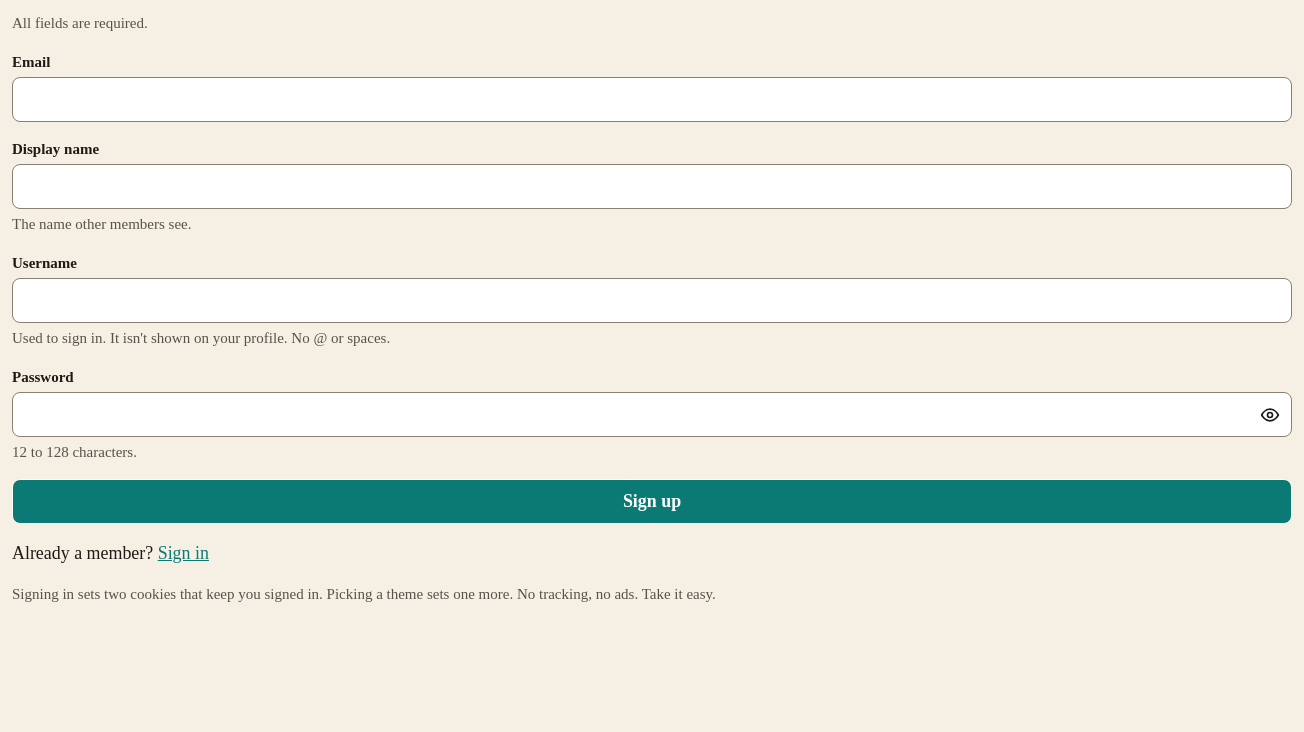
Scenario: SignUpForm › leaves focus alone when only a form error comes back
Type "e2e-walter@example.com" into the field labelled "Email".
click(652, 99); type("e2e-walter@example.com")  # box top-left (12, 77), bottom-right (1292, 122)
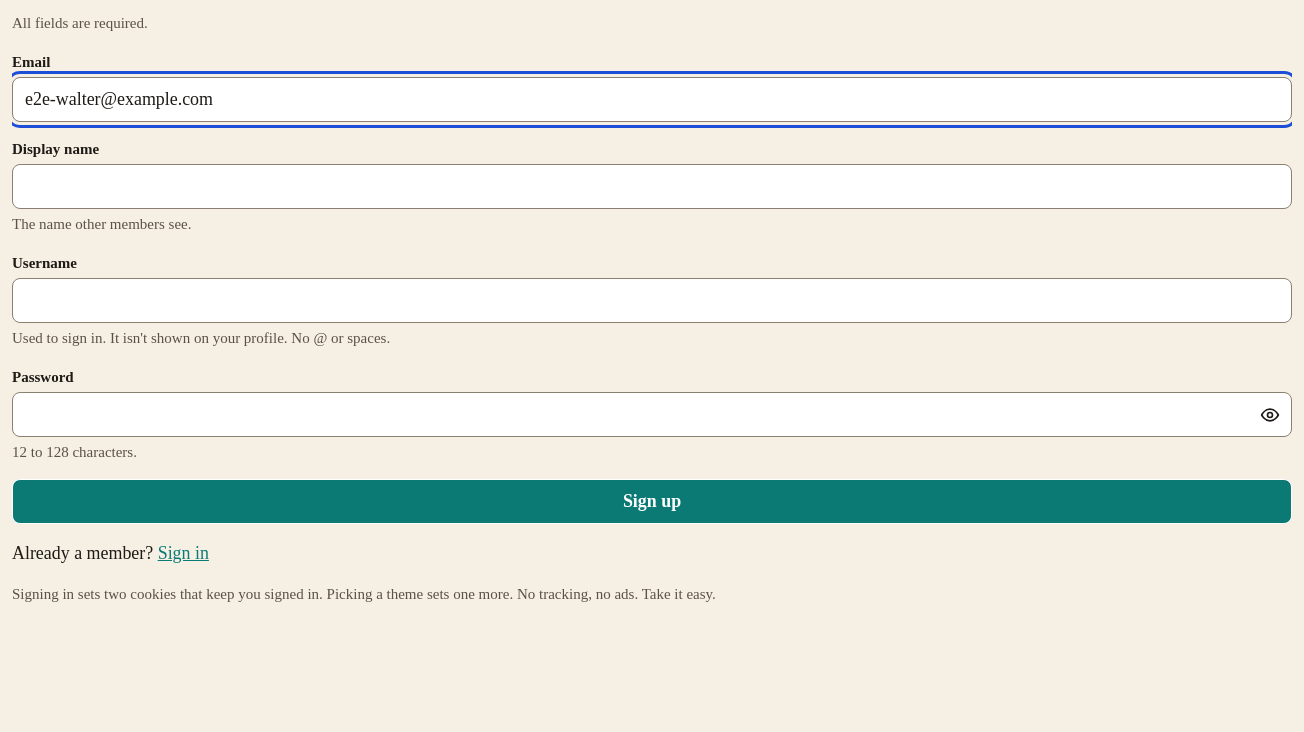
Type "Walter" into the field labelled "Display name".
click(652, 187); type("Walter")  # box top-left (12, 164), bottom-right (1292, 209)
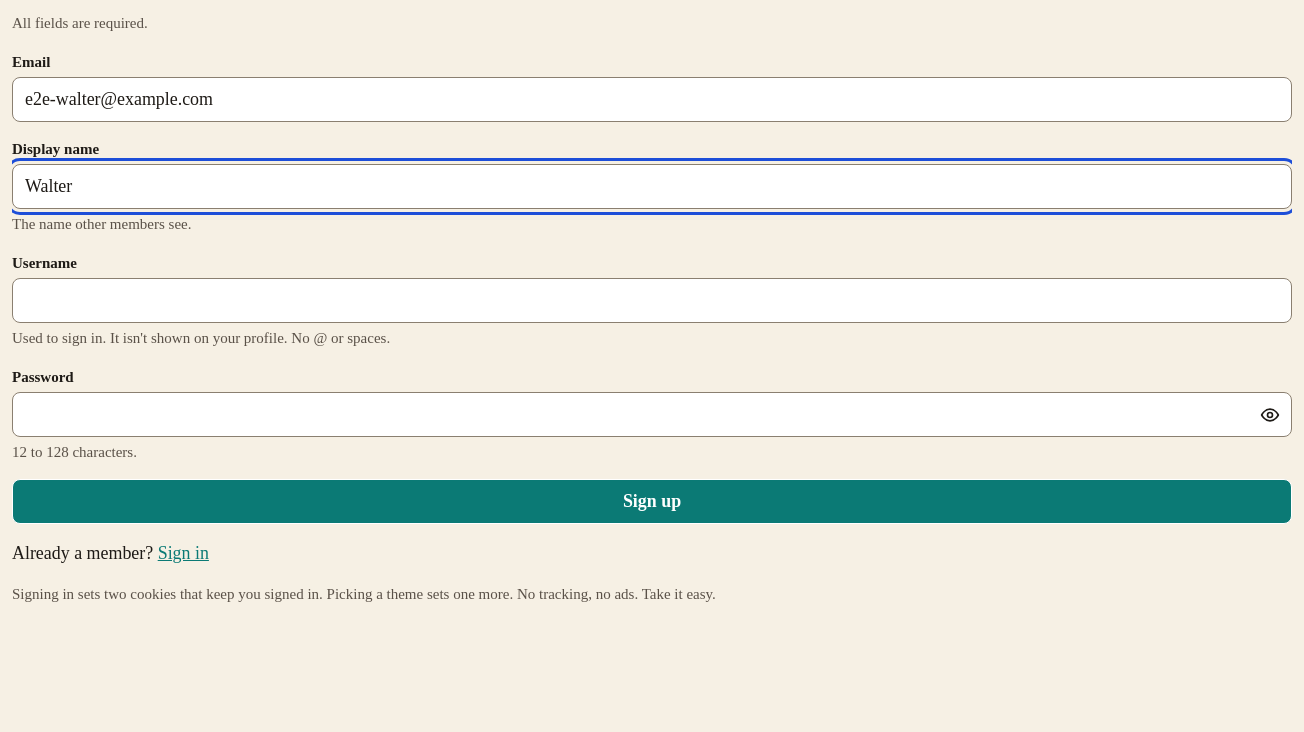
Type "e2e-walter" into the field labelled "Username".
click(652, 301); type("e2e-walter")  # box top-left (12, 278), bottom-right (1292, 323)
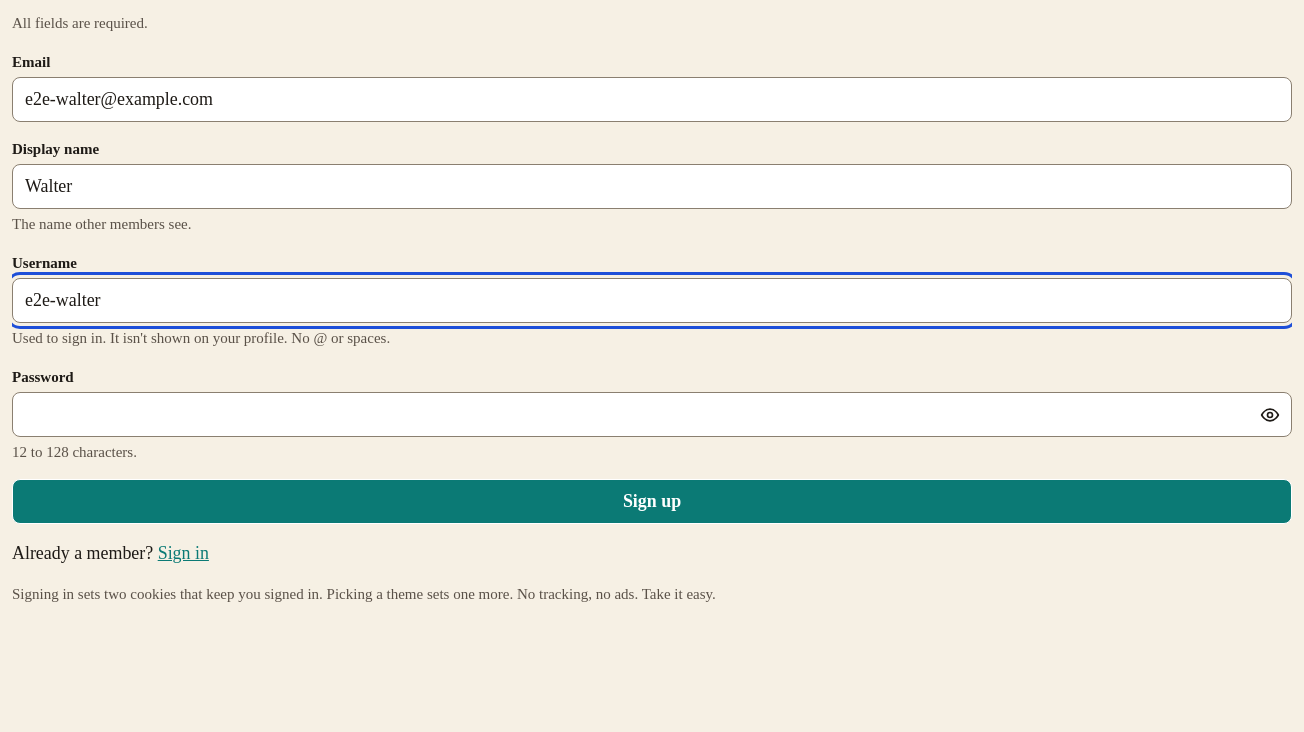
Type "not-a-real-password" into the password field labelled "Password".
click(652, 415); type("not-a-real-password")  # box top-left (12, 392), bottom-right (1292, 437)
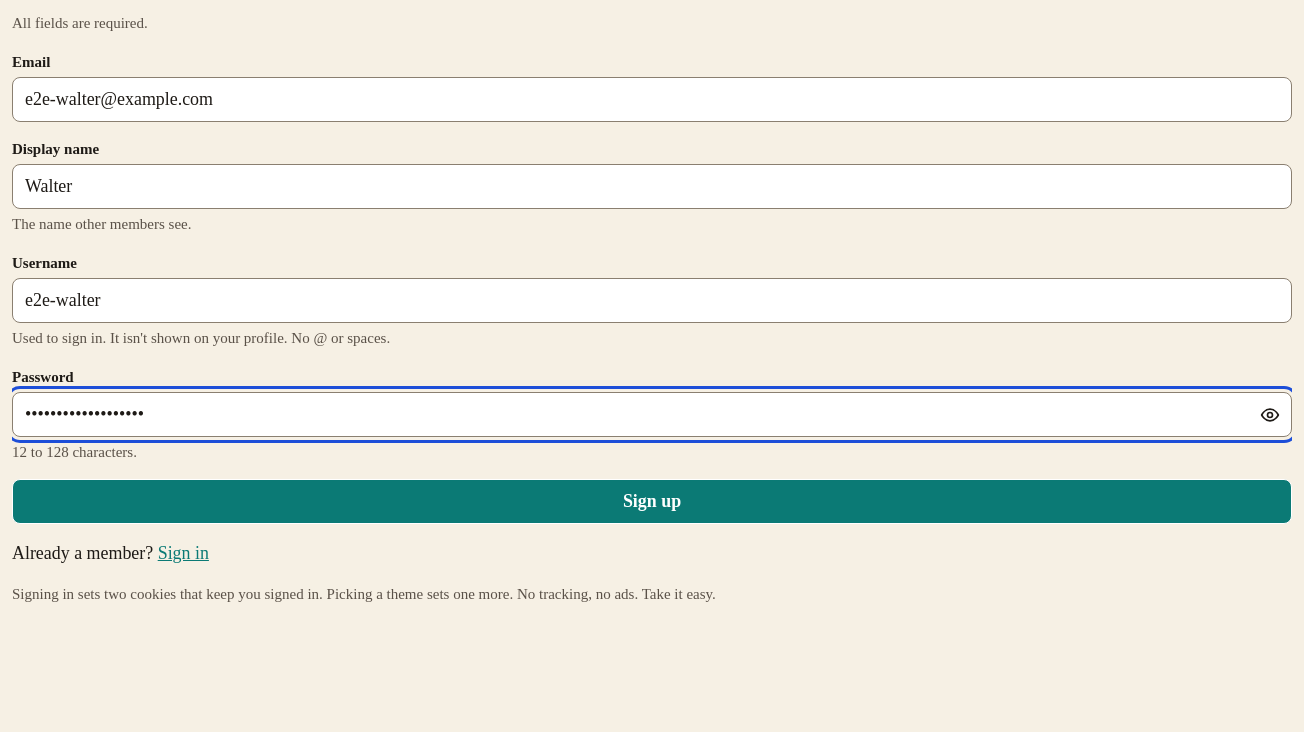
Click the button "Sign up".
click(652, 502)  # box top-left (12, 479), bottom-right (1292, 524)
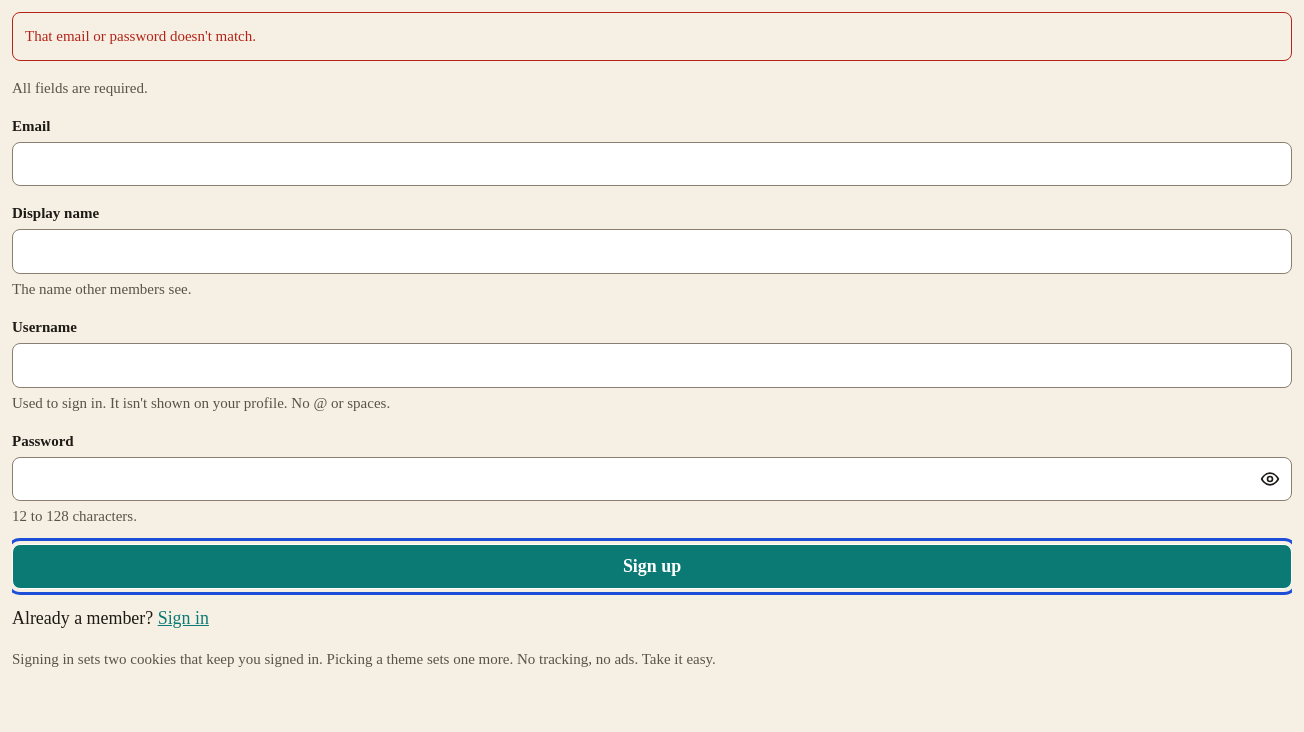
Expected: the message "That email or password doesn't match." is shown, top-left (12, 12), bottom-right (1292, 60)
